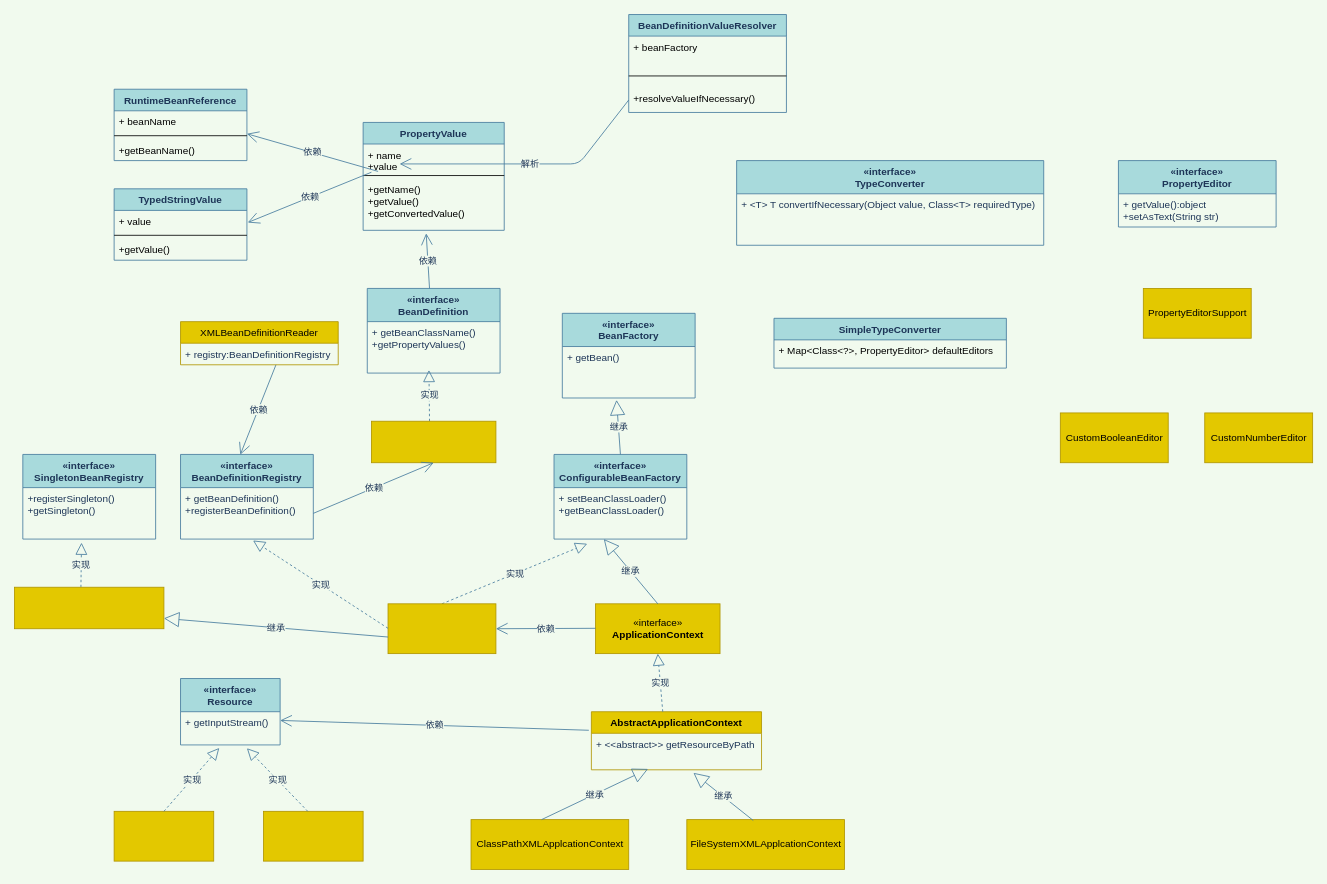
The diagram is 1327 pixels wide and 884 high, and some of its shapes have lost their labels. Here are the shapes that lost their labels. From the top down, the centre of each, then its label:
At (433,441): "Generic BeanDefinition".
At (89,607): "DefaultSingletonBeanRegistry".
At (441,628): "DefaultBeanFactory".
At (163,835): "ClassPathResource".
At (313,835): "FileSystemResource".
